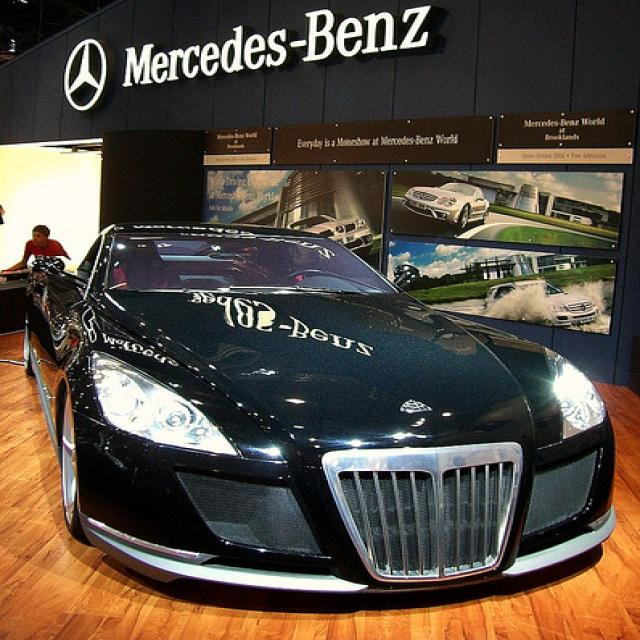light_vehicle: (18, 218, 618, 616), (479, 278, 600, 329), (397, 178, 494, 233), (283, 210, 376, 258)
